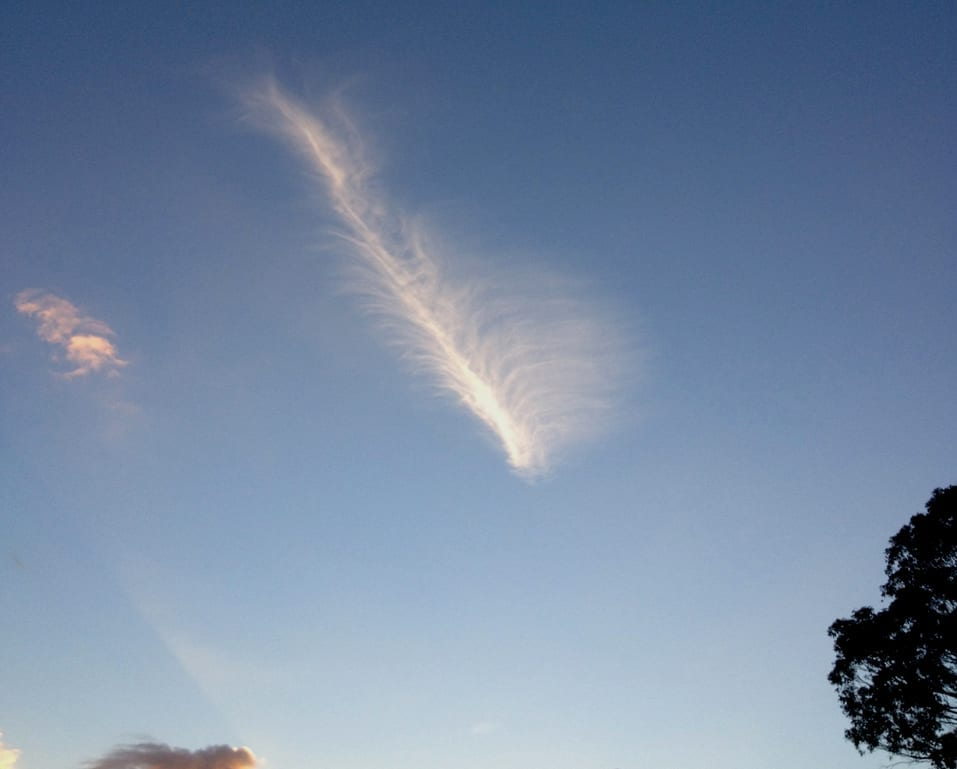Cirrus: (210, 27, 680, 533), (12, 254, 152, 421)
